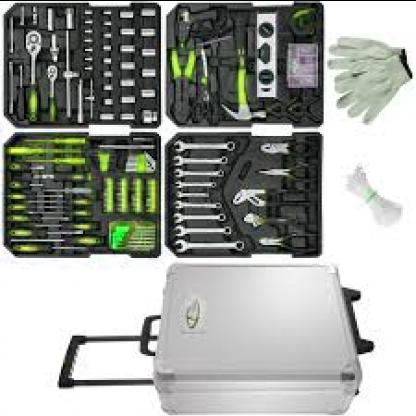Tool Box: (1, 127, 164, 266), (164, 126, 327, 262), (165, 0, 331, 128), (0, 0, 161, 128)
